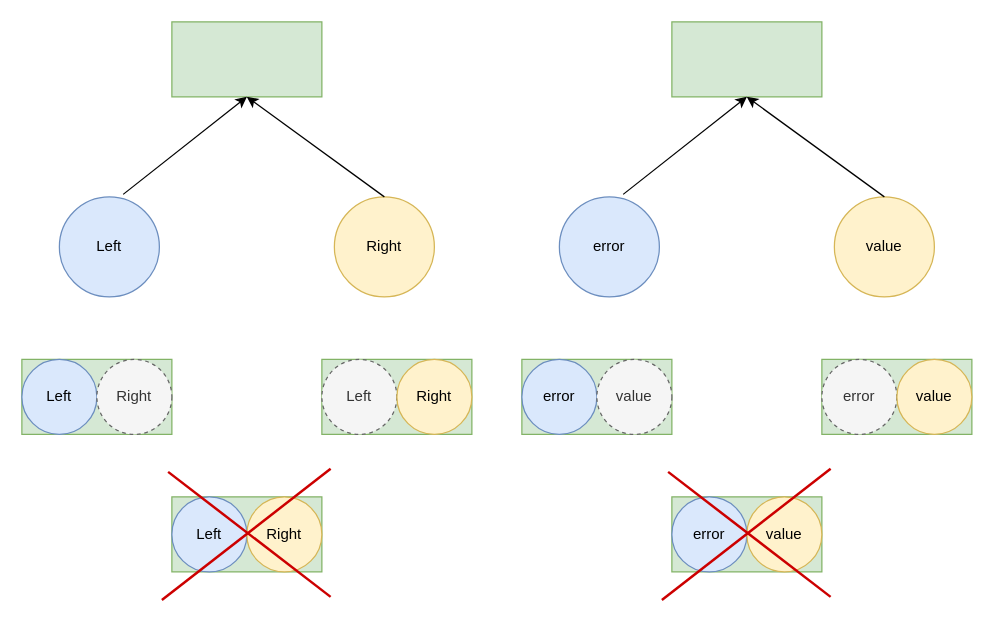
Image size: 994x624. Some labels were removed from this diagram. The centre of each missing label's shape, as x and y in pixels:
Either: (x=246, y=59)
Result: (x=746, y=59)
